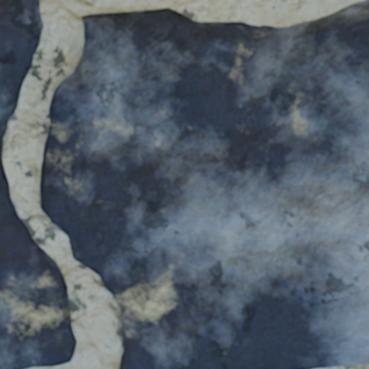broken_brick: (44, 0, 368, 368), (0, 150, 76, 368), (0, 0, 40, 132)
crack: (0, 0, 124, 368)
